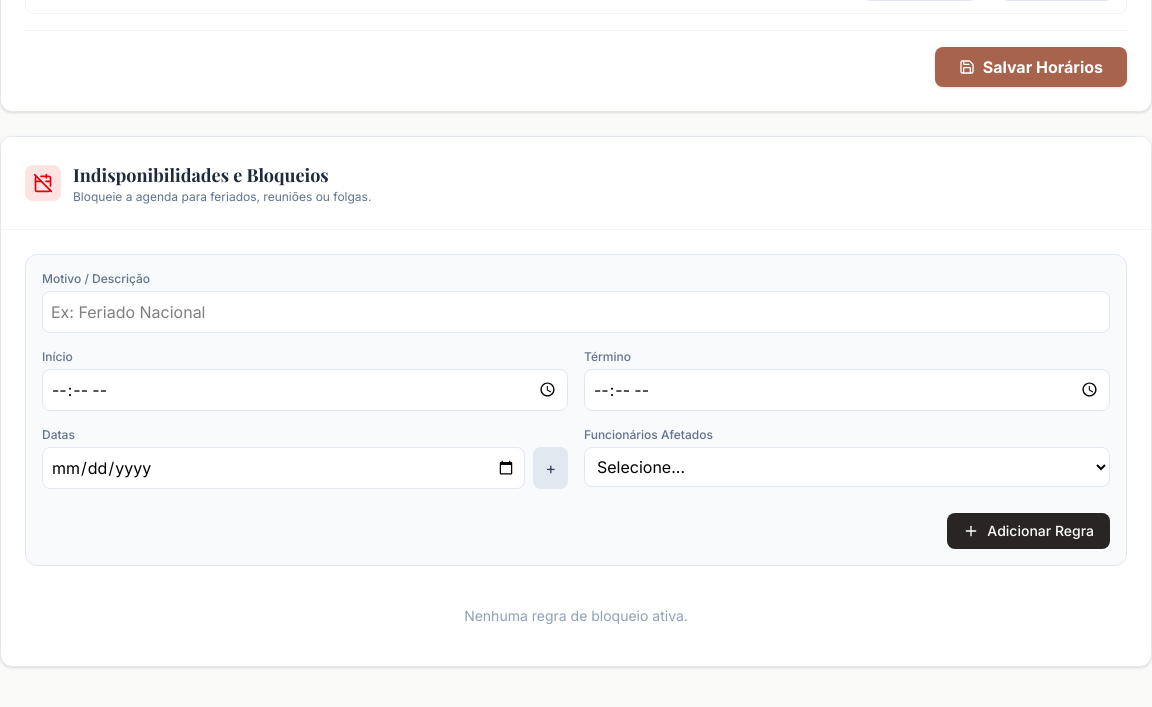
Test: pages/BusinessHoursSettings — regras de indisponibilidade › bloqueia o envio sem horário de início/término
(page scrolled)
Click the button "Adicionar Regra".
click(1029, 531)  # box [947, 513, 1110, 549]
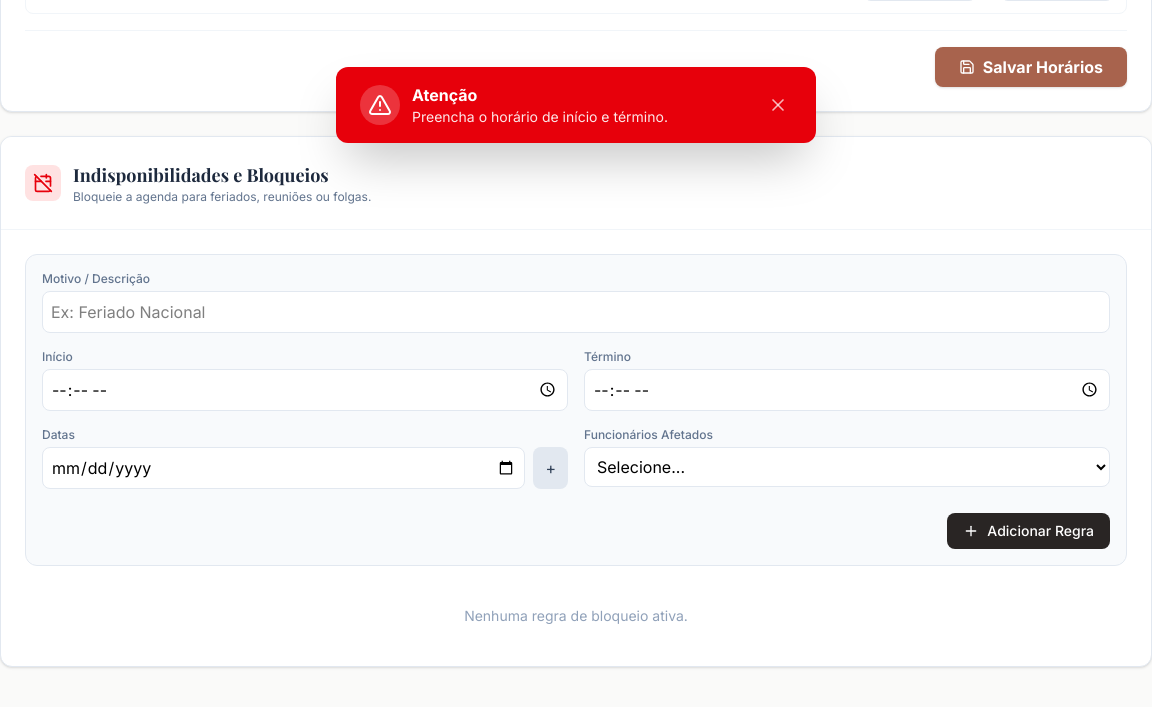
Now the text "Preencha o horário de início e término." is shown, box [412, 107, 668, 127]
